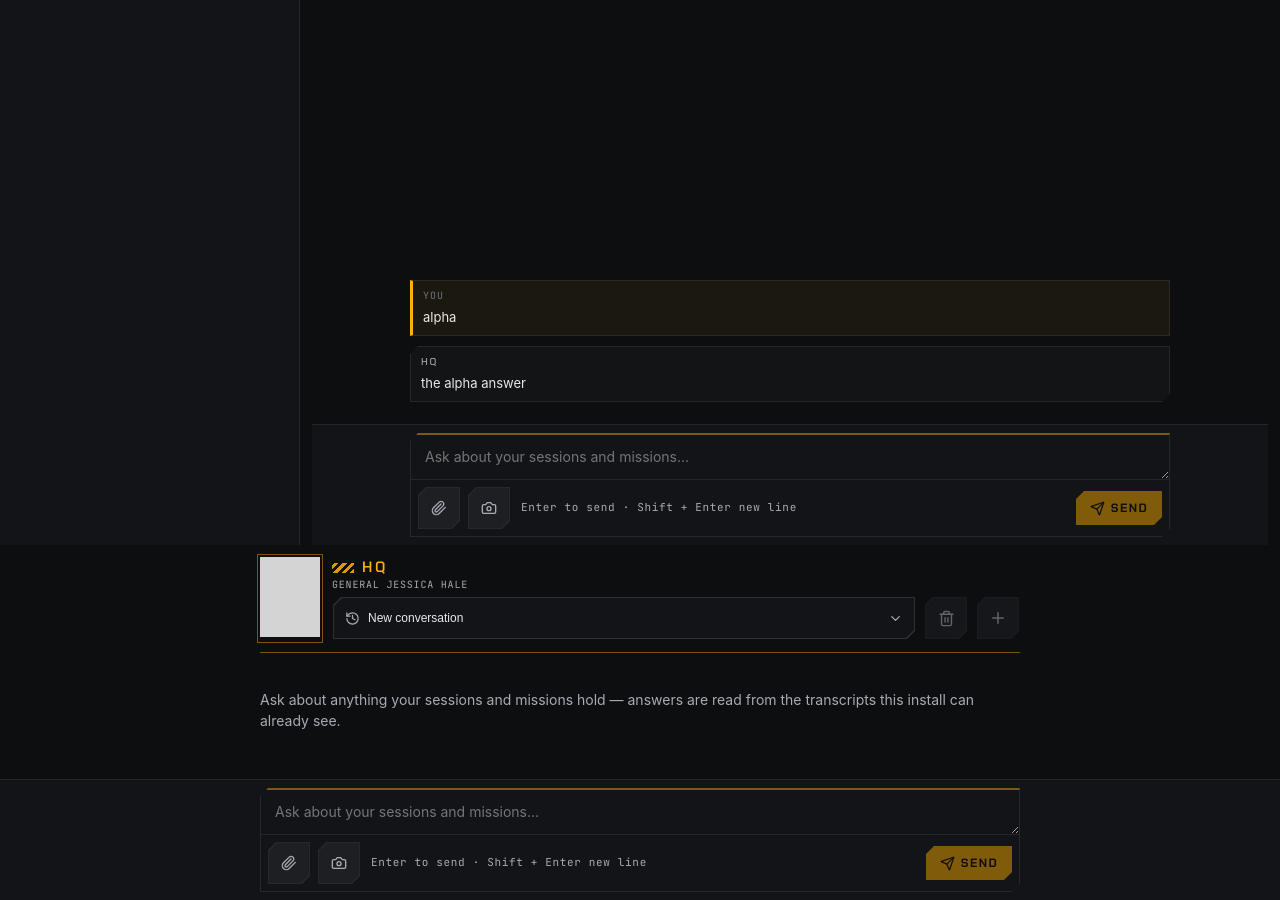
Test: both consumers: deleting on the page never lets a stale read restore it on the page or in the sidebar
(page scrolled)
expect the text "the alpha answer" is shown: met, box [421, 375, 526, 391]
Step 1. Click the button with test id "ask-switcher" → (416, 618), box [332, 596, 916, 640]
(page scrolled)
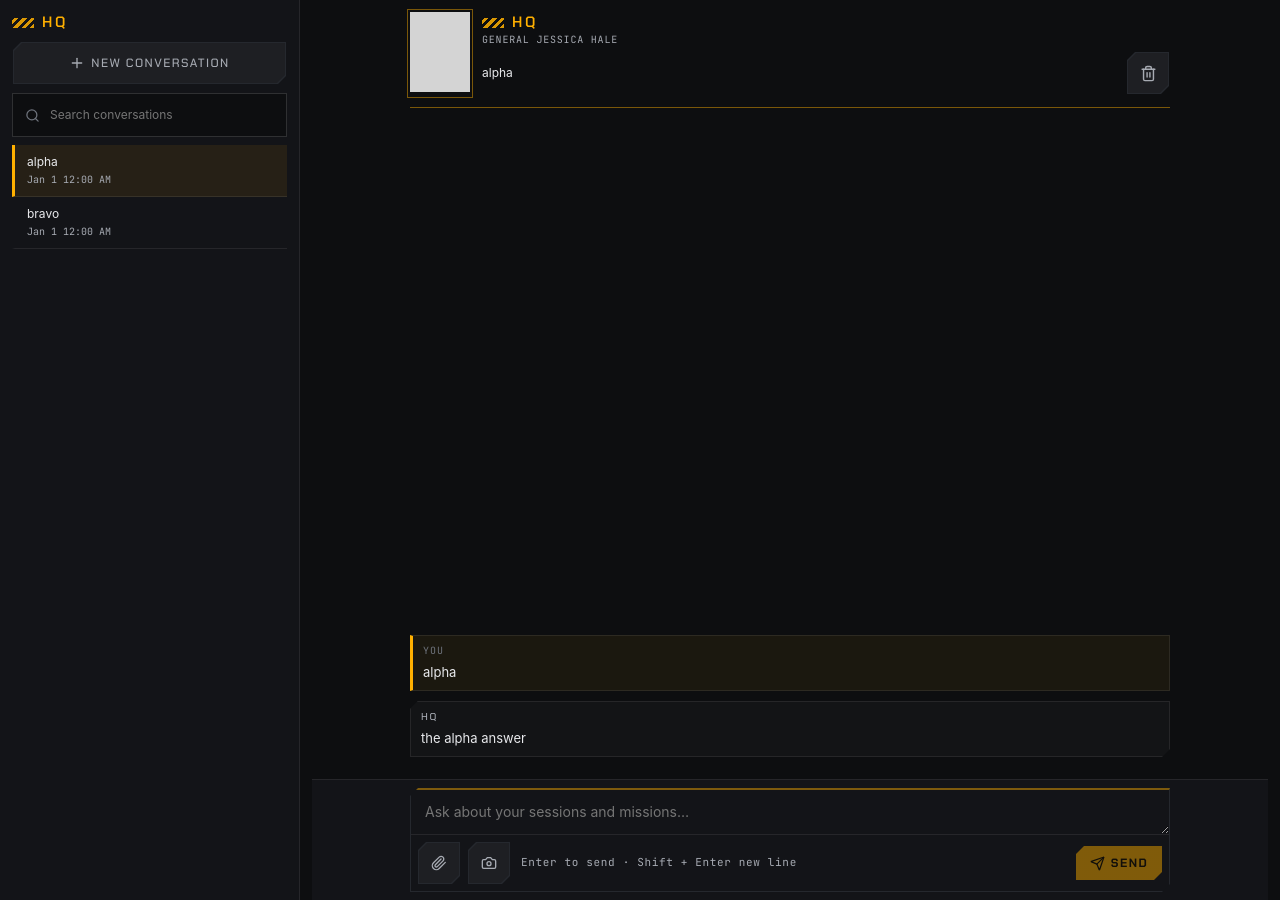
Step 2. Click the button with test id "ask-delete" → (1148, 73), box [1126, 51, 1170, 95]
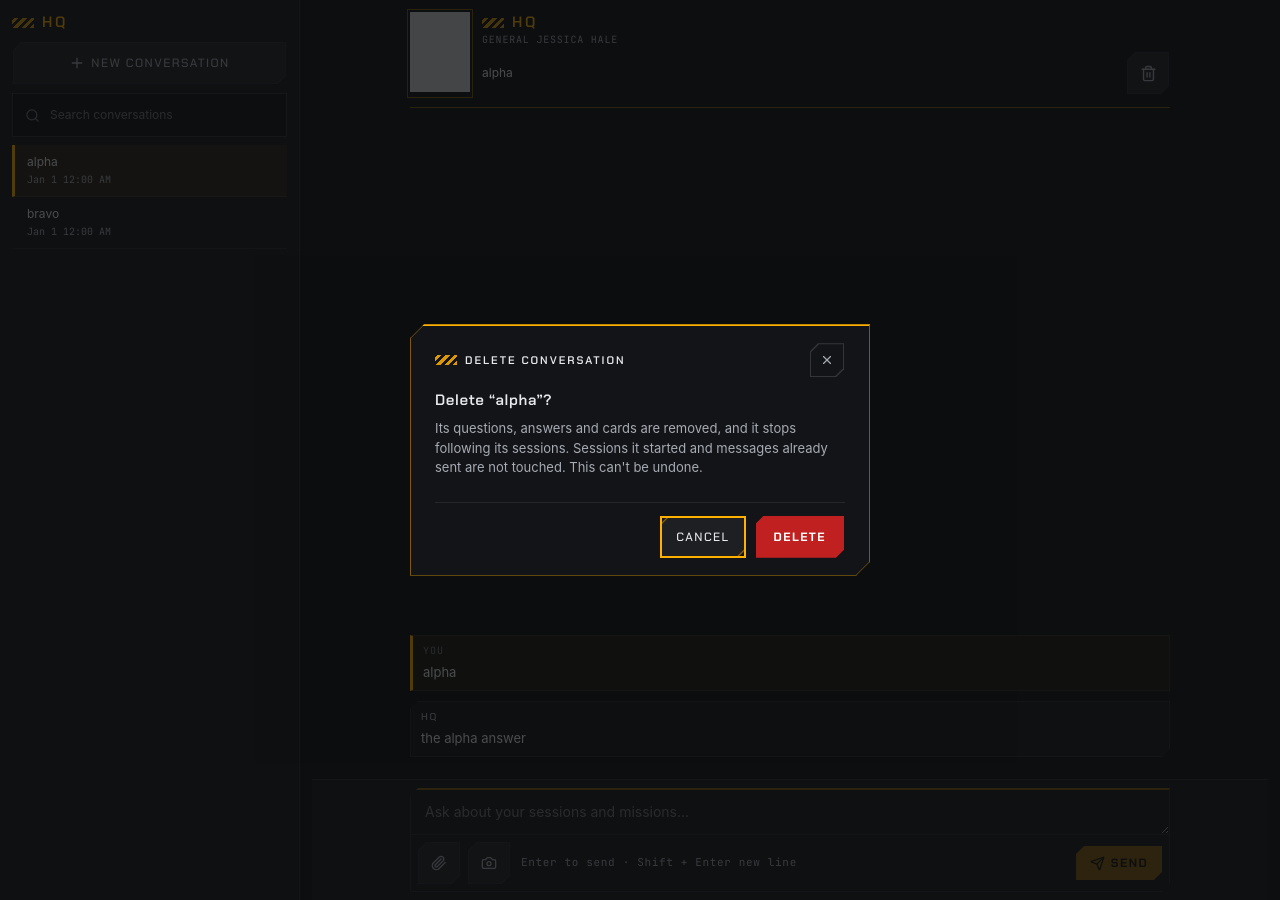
Step 3. Click the button "Delete" → (800, 537), box [754, 515, 845, 559]
(page scrolled)
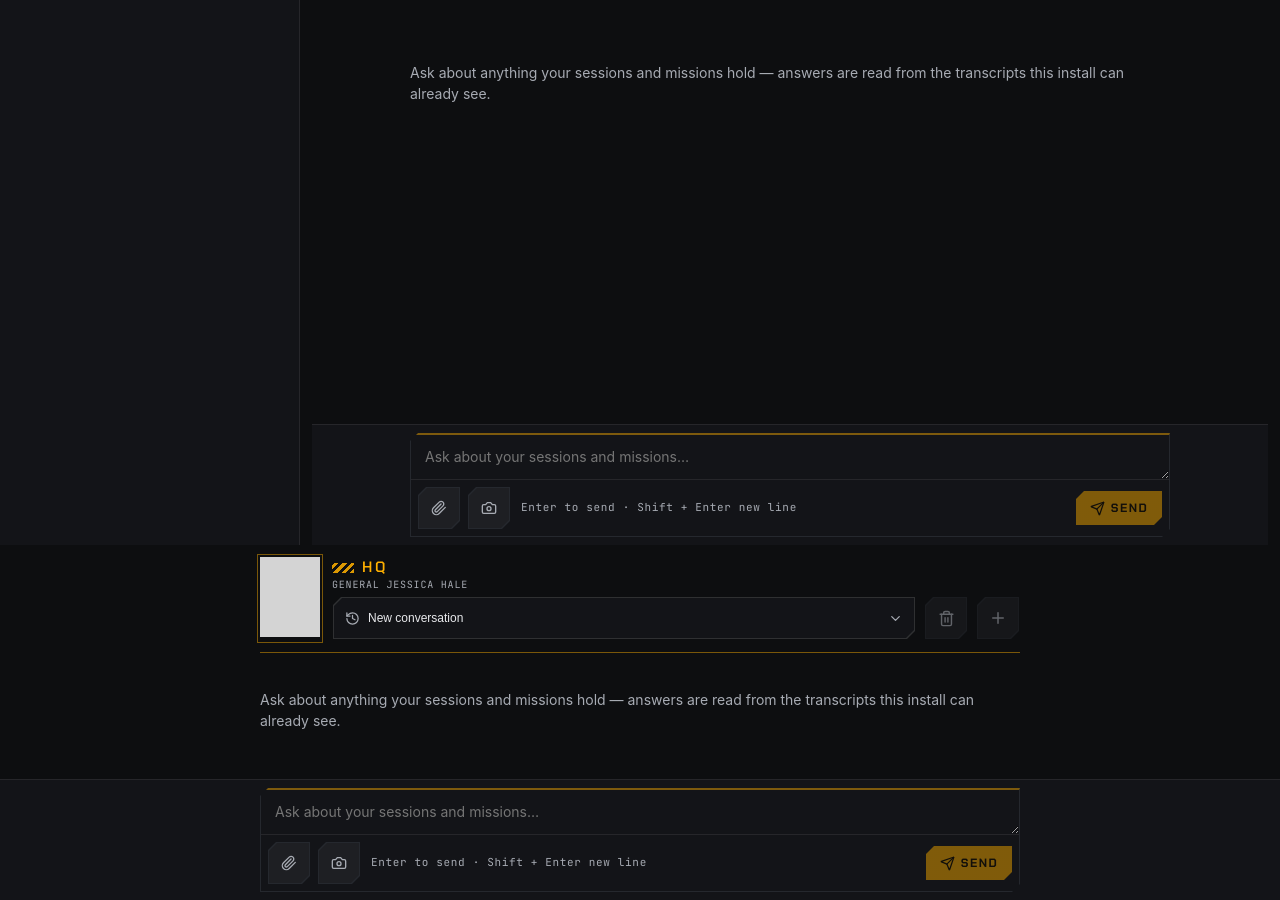
expect the link "alpha" is gone: met
Step 4. Click the button with test id "ask-switcher" → (416, 618), box [332, 596, 916, 640]
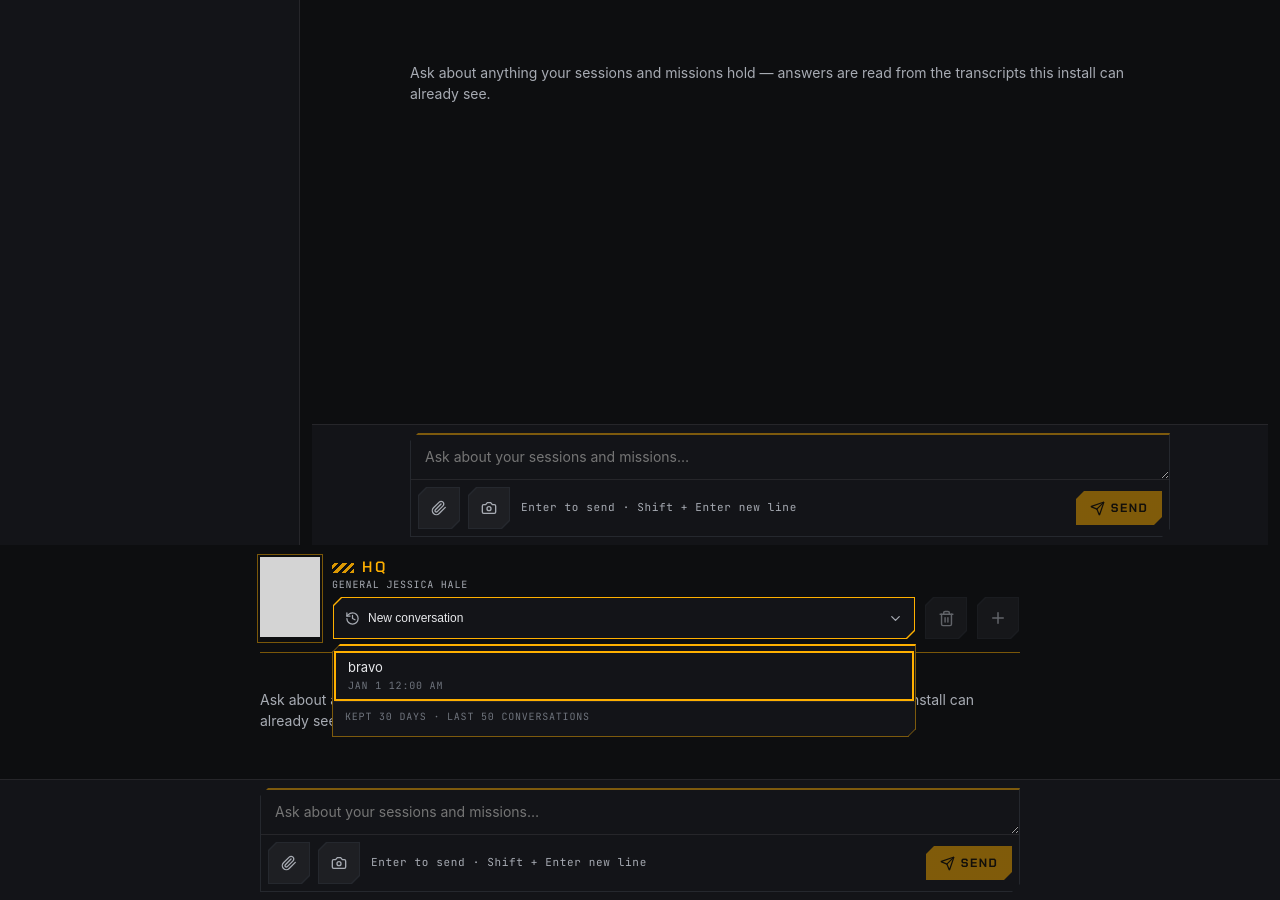
expect the number of options with test id "ask-switcher-item" is 1: met, box [333, 650, 915, 702]
expect the option with test id "ask-switcher-item" shows "bravo": met, box [333, 650, 915, 702]
